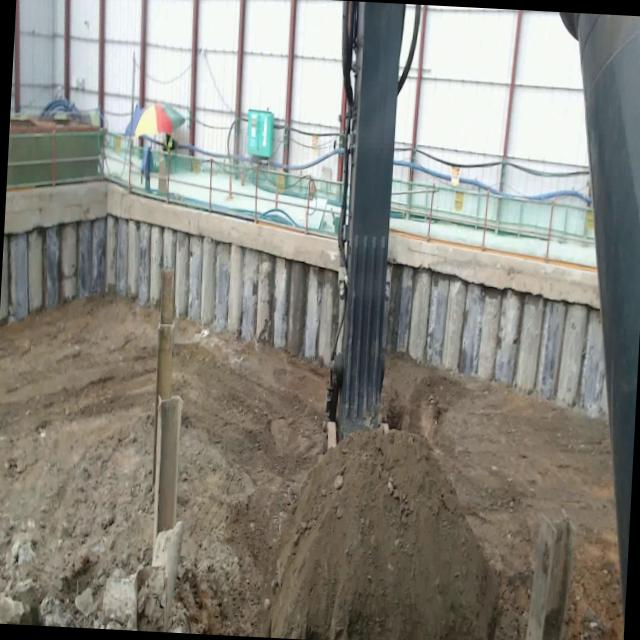red-sand: (382, 355, 623, 640), (259, 429, 499, 640), (0, 298, 159, 587), (173, 322, 325, 615)
